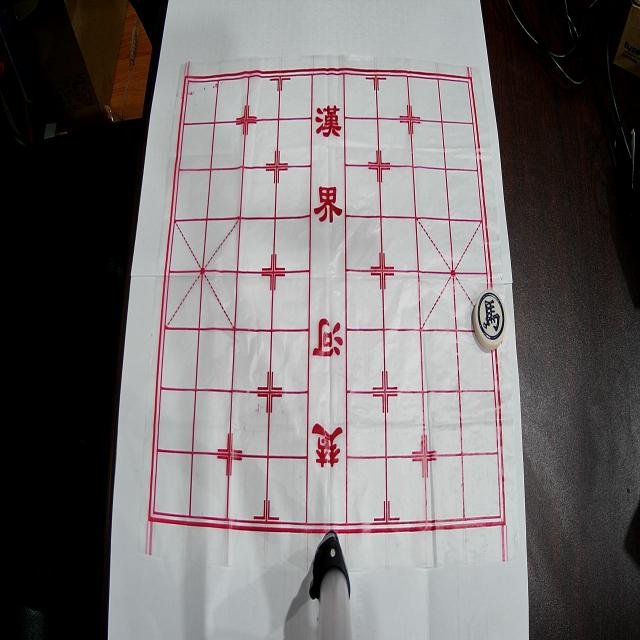black-horse: (473, 290, 507, 350)
